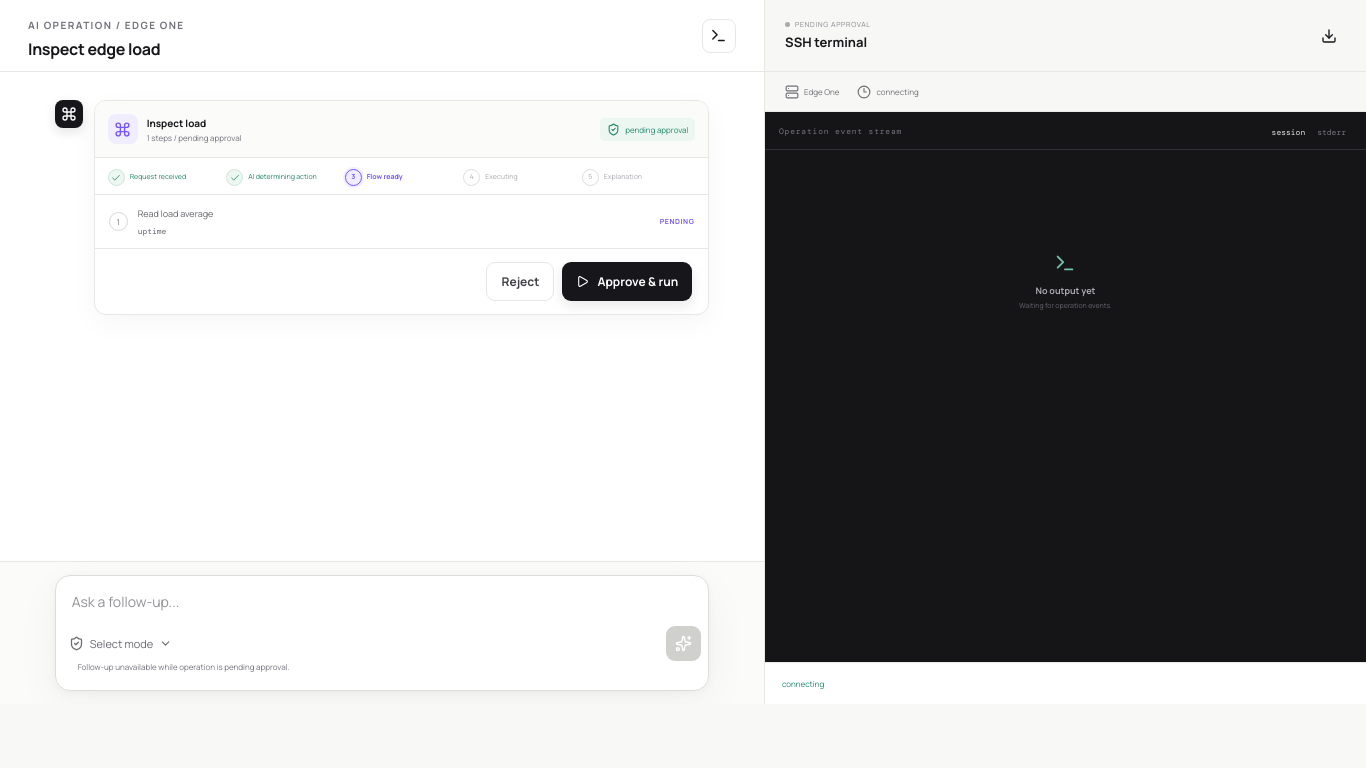
real chat workspace › refetches operation state after partial approval acknowledgement
The width and height of the screenshot is (1366, 768).
Click the button "Approve & run". click: x=627, y=282
box: [562,262,692,301]
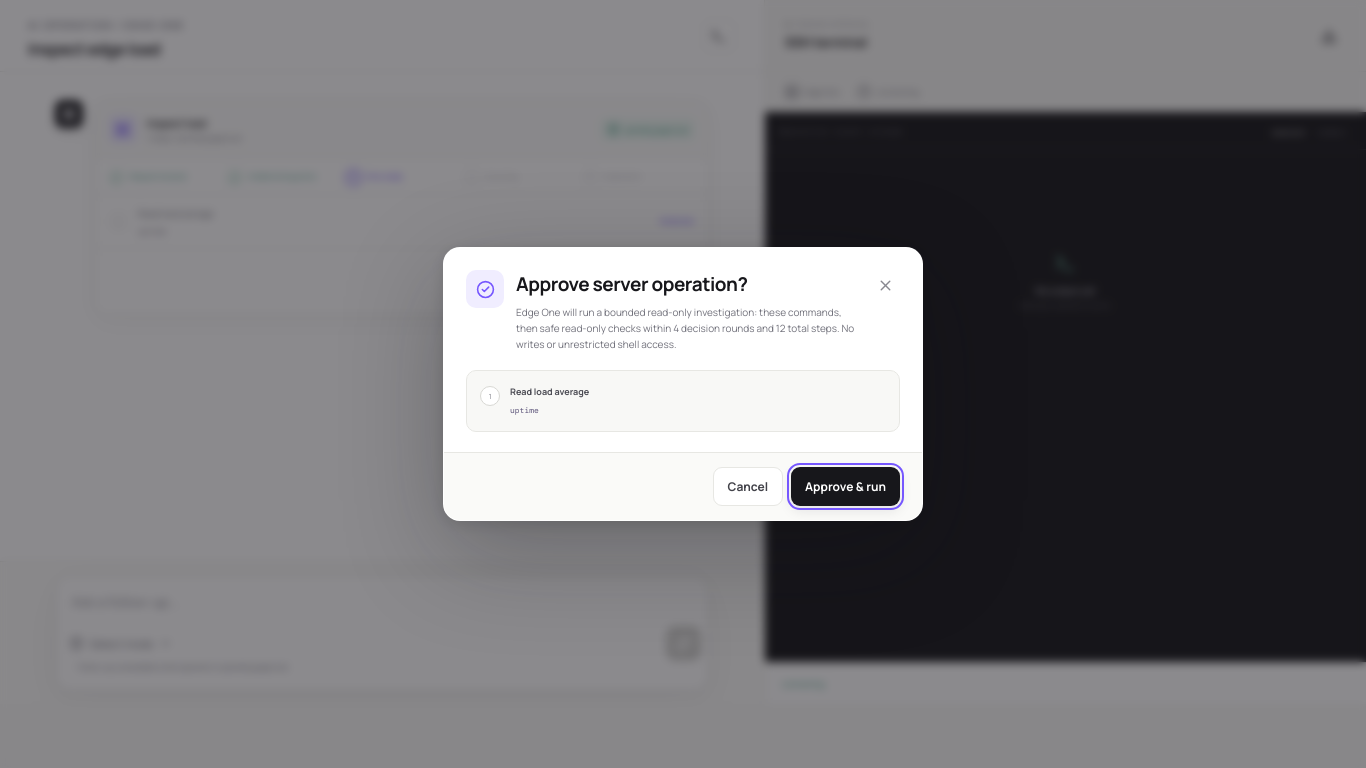
Click the button with class "dialog-confirm". click: x=846, y=486
box: [791,467,900,506]
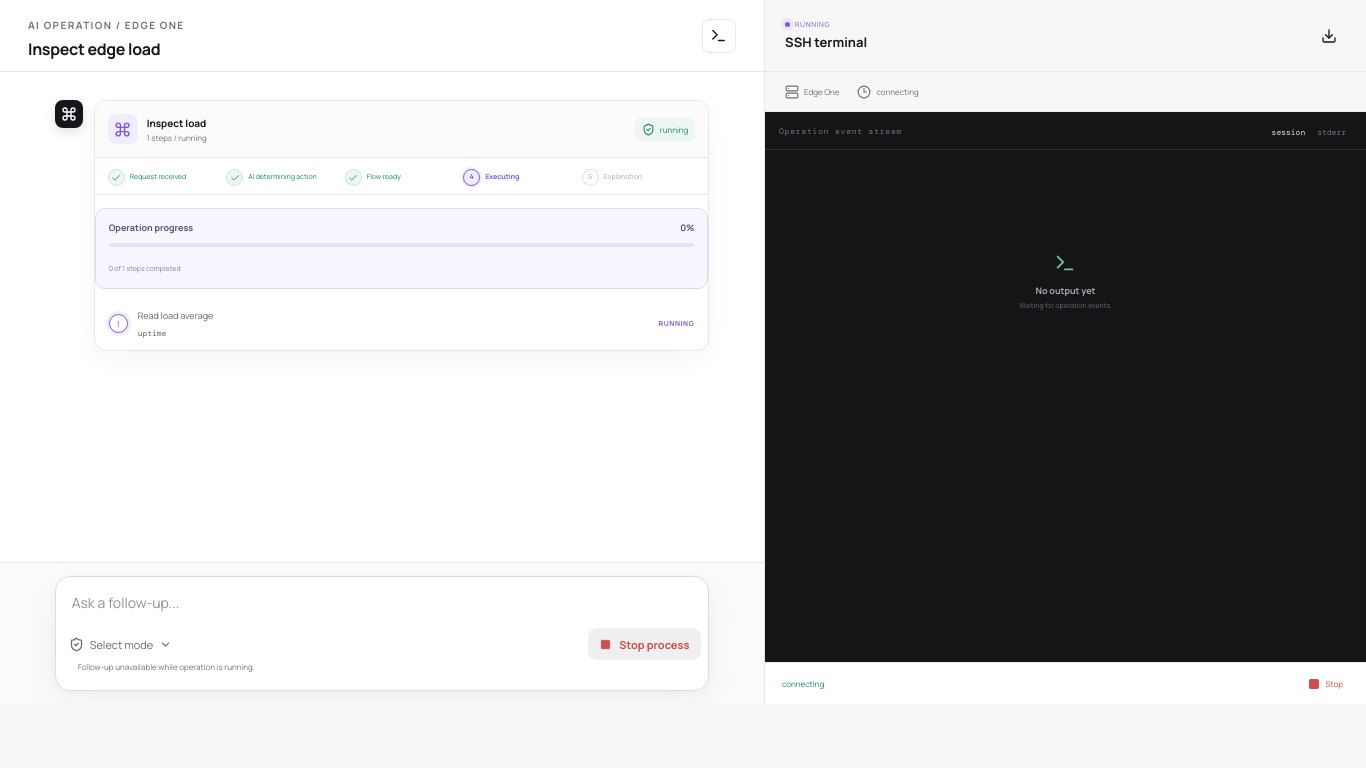
Expected: the text "Read load average" is shown, [138,308,213,322]
Expected: the text "running" in the row of "Inspect load" is shown, [660,124,688,134]
